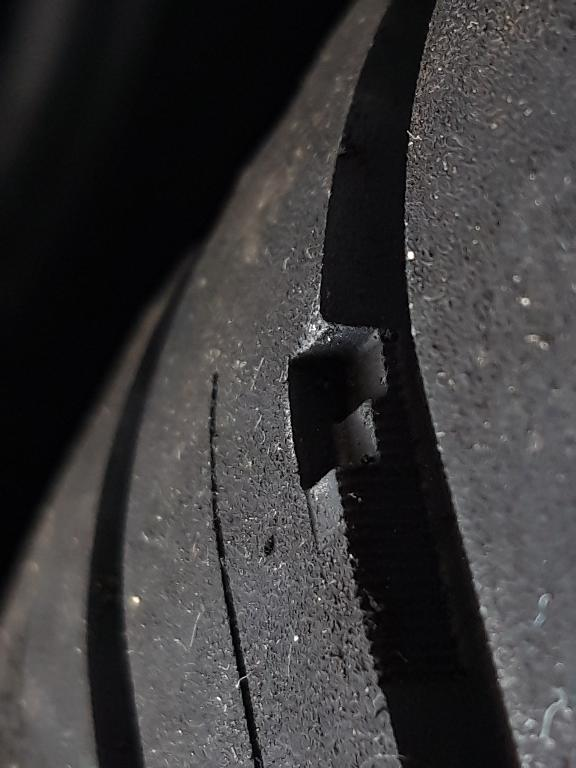temoin:50: (276, 316, 442, 556)
